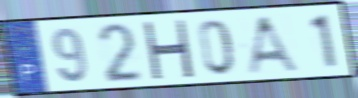0: (198, 18, 237, 77)
1: (309, 12, 339, 70)
2: (96, 21, 144, 85)
9: (49, 26, 89, 84)
A: (244, 14, 301, 75)
H: (140, 19, 196, 80)
